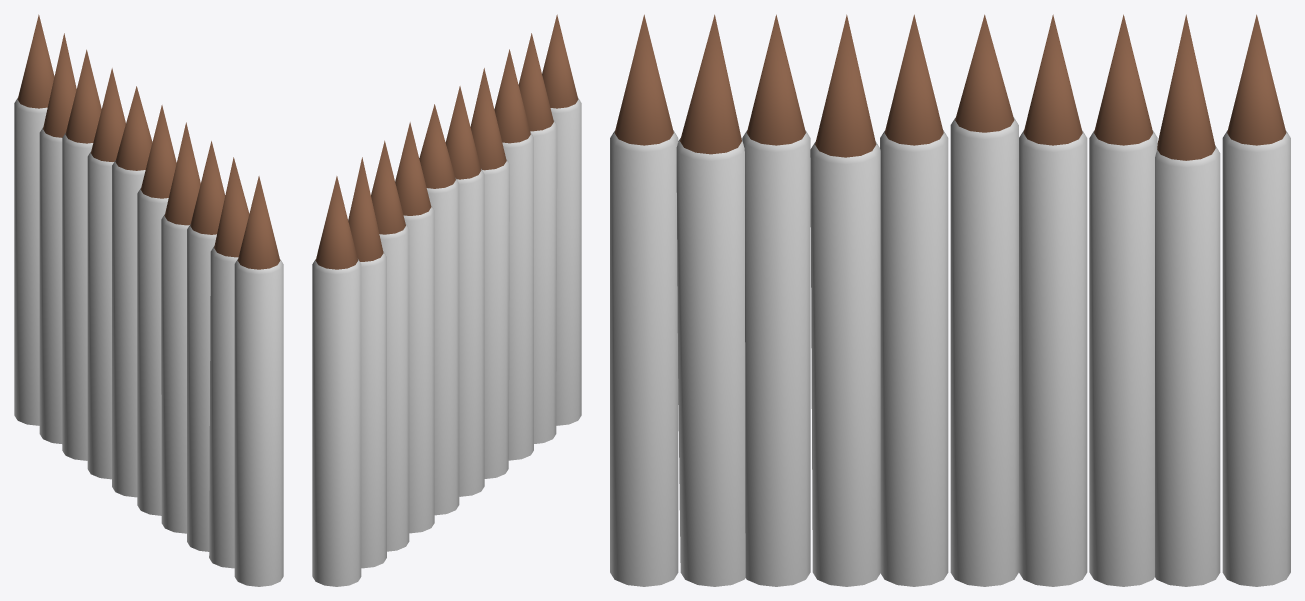
Rendered from Pal_2.fbx.
The picture shows the model from 3 angles, left to right: view 1: azimuth 30°, elevation 25°; view 2: azimuth 150°, elevation 25°; view 3: azimuth 270°, elevation 25°; orthographic projection. The views are drawn at different scales.
Parts seen in each view (by area): view 1: Pal_2; view 2: Pal_2; view 3: Pal_2.
Boxes of the visible parts, x1,y1,x2,y2 form: Pal_2: (14,14,283,586); Pal_2: (312,14,581,586); Pal_2: (610,14,1290,586).
Bounding box in the file's own units: 0.1675 × 1.41 × 1.55.
